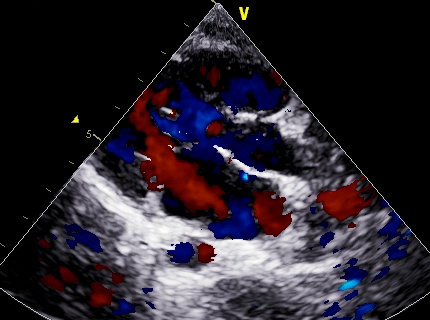MR: (146, 141, 231, 192)
